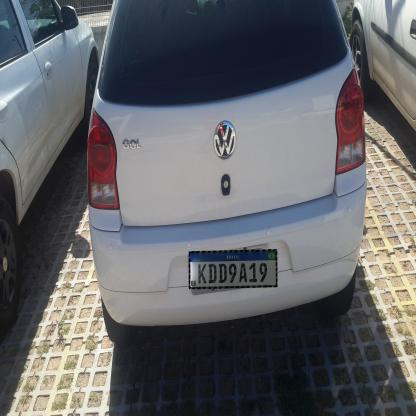PlacaM: (188, 249, 278, 289)
